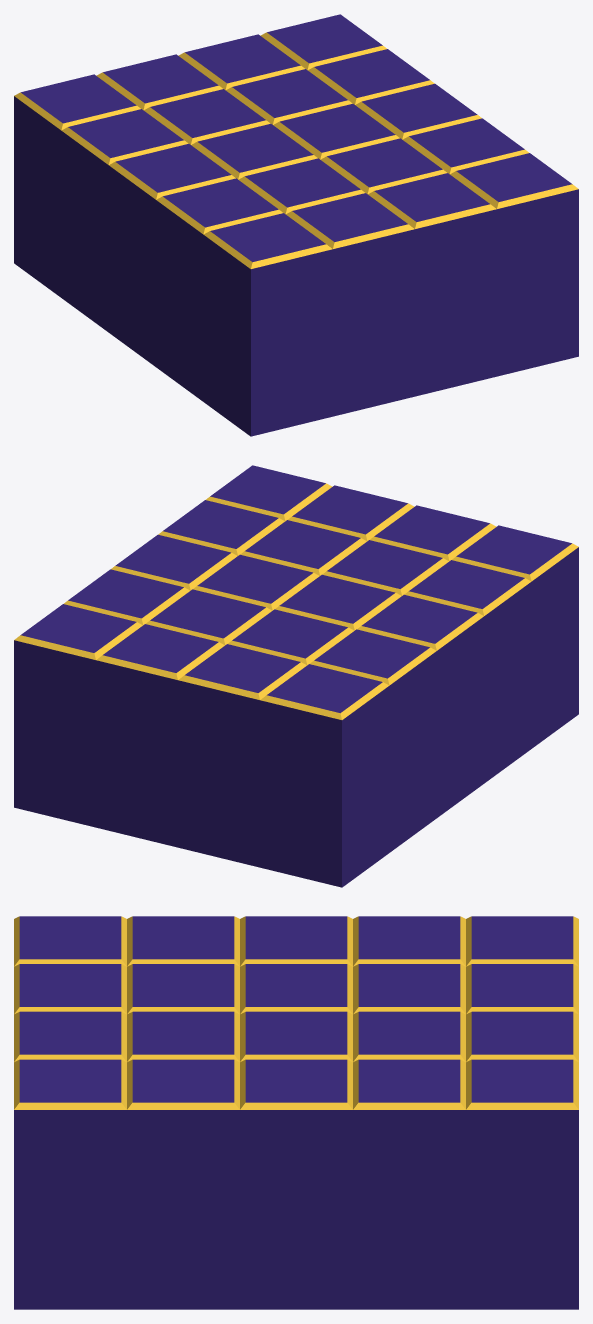
File: sm_basePlatform_1.fbx
3 views of the same model, one above another, from view 1: azimuth 30°, elevation 25°; view 2: azimuth 150°, elevation 25°; view 3: azimuth 270°, elevation 25° (orthographic). The views are drawn at different scales.
Visible parts, largest first — view 1: pCube1, pCube10, pCube2, pCube22, pCube5, pCube3, pCube39, pCube7, pCube40, pCube19, pCube11, pCube12 (+16 smaller); view 2: pCube40, pCube32, pCube34, pCube38, pCube36, pCube39, pCube3, pCube7, pCube1, pCube26, pCube30, pCube28 (+16 smaller); view 3: pCube22, pCube23, pCube24, pCube33, pCube34, pCube19, pCube20, pCube21, pCube25, pCube26, pCube5, pCube6 (+13 smaller).
Part boxes in pixels (x1,y1,x2,y2): pCube1: (203,213,332,350); pCube10: (203,316,332,436); pCube2: (286,193,414,330); pCube22: (450,153,578,290); pCube5: (368,173,496,310); pCube3: (156,178,282,315); pCube39: (61,109,188,246); pCube7: (108,143,235,280); pCube40: (14,74,140,211); pCube19: (497,271,578,376); pCube11: (333,311,414,416); pCube12: (415,291,496,396); pCube40: (260,664,389,801); pCube32: (260,767,389,887); pCube34: (14,604,142,741); pCube38: (178,644,306,781); pCube36: (96,624,224,761); pCube39: (310,629,436,766); pCube3: (404,560,531,697); pCube7: (357,594,484,731); pCube1: (452,525,578,662); pCube26: (14,722,95,827); pCube30: (178,762,259,867); pCube28: (96,742,177,847); pCube22: (14,1059,126,1207); pCube23: (127,1059,239,1207); pCube24: (240,1059,352,1207); pCube33: (353,1059,465,1207); pCube34: (466,1059,578,1207); pCube19: (14,1207,126,1309); pCube20: (127,1207,239,1309); pCube21: (240,1207,352,1309); pCube25: (353,1207,465,1309); pCube26: (466,1207,578,1309); pCube5: (14,1011,126,1061); pCube6: (127,1011,239,1061).
Size of the model in its own units: 400 by 200 by 500.
